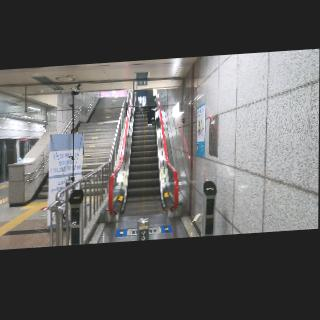anomaly: (140, 94, 163, 126)
normal: (131, 87, 147, 115)
